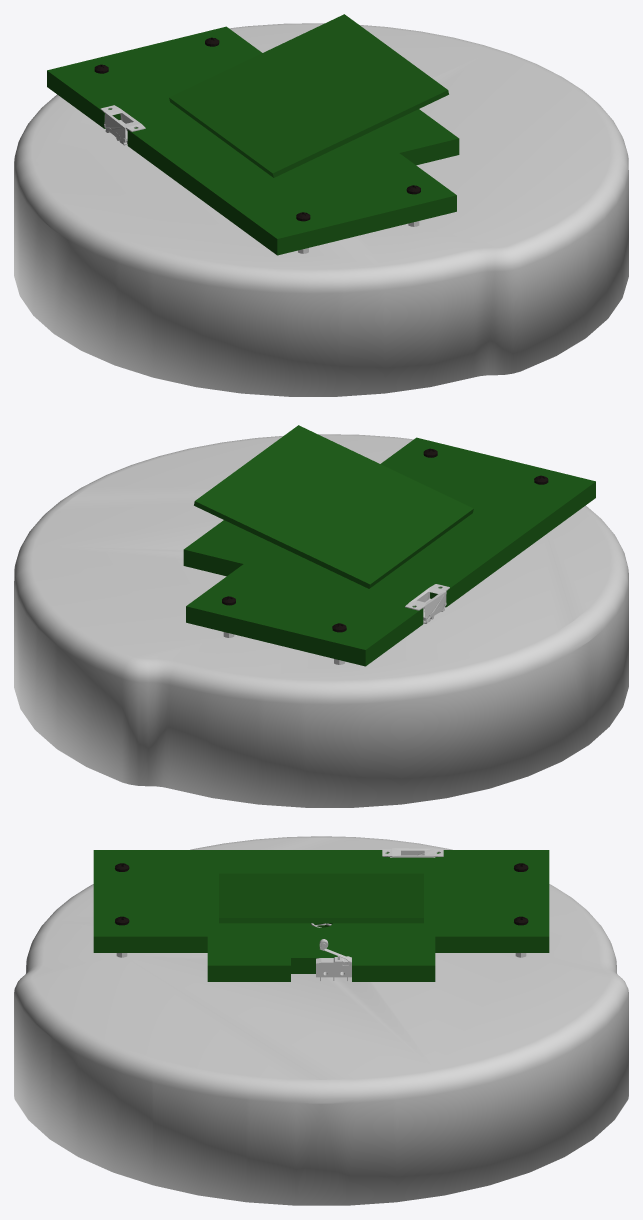
File: robot_green.dae
3 views of the same model, one above another, from view 1: azimuth 30°, elevation 25°; view 2: azimuth 150°, elevation 25°; view 3: azimuth 270°, elevation 25° (orthographic).
Parts seen in each view (by area): view 1: Ground_robot_green_base, Ground_robot_green_plaque, Ground_robot_green_clap, Ground_robot_green_0012; view 2: Ground_robot_green_base, Ground_robot_green_plaque, Ground_robot_green_clap, Ground_robot_green_0012; view 3: Ground_robot_green_base, Ground_robot_green_plaque, Ground_robot_green_clap, Ground_robot_green_0132, Ground_robot_green_0012.
Boxes of the visible parts, x1=… form: Ground_robot_green_base: x1=14, y1=23, x2=628, y2=396; Ground_robot_green_plaque: x1=47, y1=26, x2=459, y2=255; Ground_robot_green_clap: x1=169, y1=14, x2=448, y2=177; Ground_robot_green_0012: x1=100, y1=105, x2=145, y2=144; Ground_robot_green_base: x1=14, y1=434, x2=628, y2=807; Ground_robot_green_plaque: x1=183, y1=437, x2=595, y2=666; Ground_robot_green_clap: x1=194, y1=425, x2=473, y2=588; Ground_robot_green_0012: x1=405, y1=584, x2=449, y2=623; Ground_robot_green_base: x1=14, y1=836, x2=628, y2=1205; Ground_robot_green_plaque: x1=93, y1=850, x2=549, y2=981; Ground_robot_green_clap: x1=219, y1=873, x2=423, y2=923; Ground_robot_green_0132: x1=316, y1=957, x2=351, y2=980; Ground_robot_green_0012: x1=382, y1=848, x2=443, y2=857.
Size of the model in its own units: 0.3392 by 0.3427 by 0.1306.
